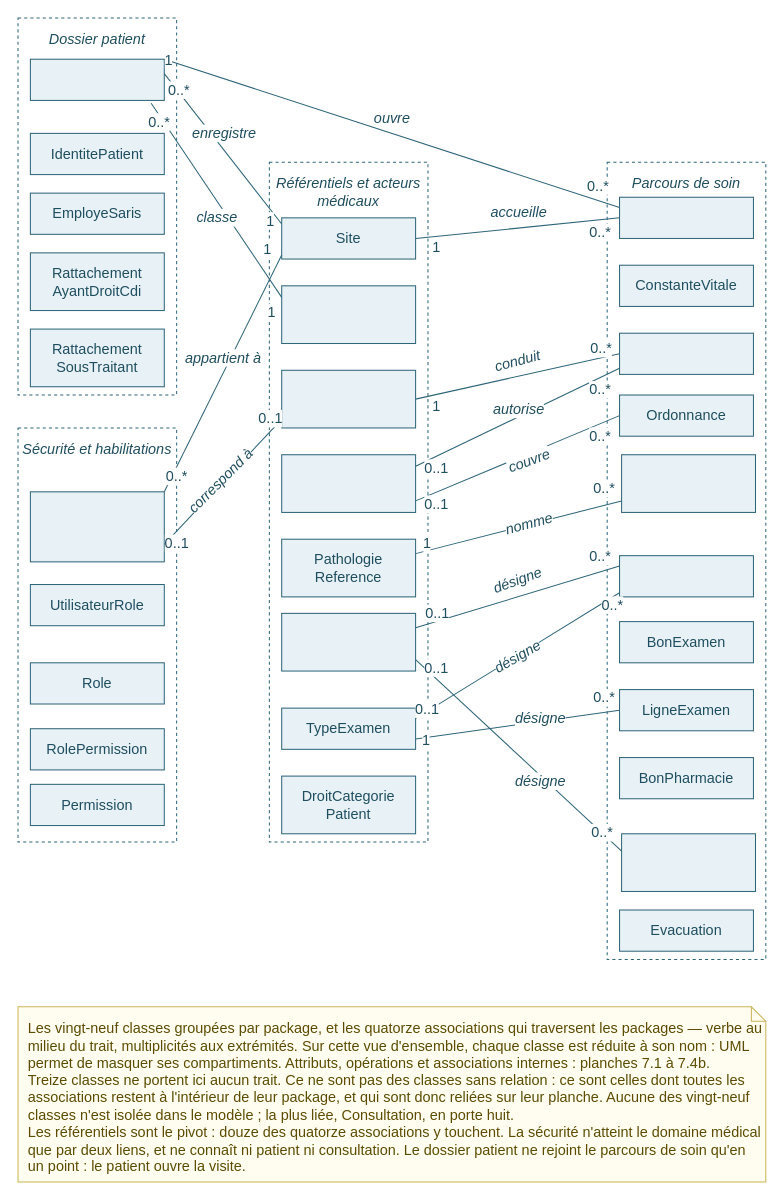
This 784x1200 diagram has some shape labels left out. Here are the shapes that lost their labels. From the top down, the centre of each, then its label:
(96,79): Patient
(686,217): Visite
(348,314): Categorie Patient
(686,353): Consultation
(348,398): Personnel Medical
(348,483): Delegation Prescription
(688,483): Diagnostic Consultation
(96,526): Utilisateur
(686,576): LigneOrdonnance
(348,641): Medicament Reference
(688,862): Ligne BonPharmacie
